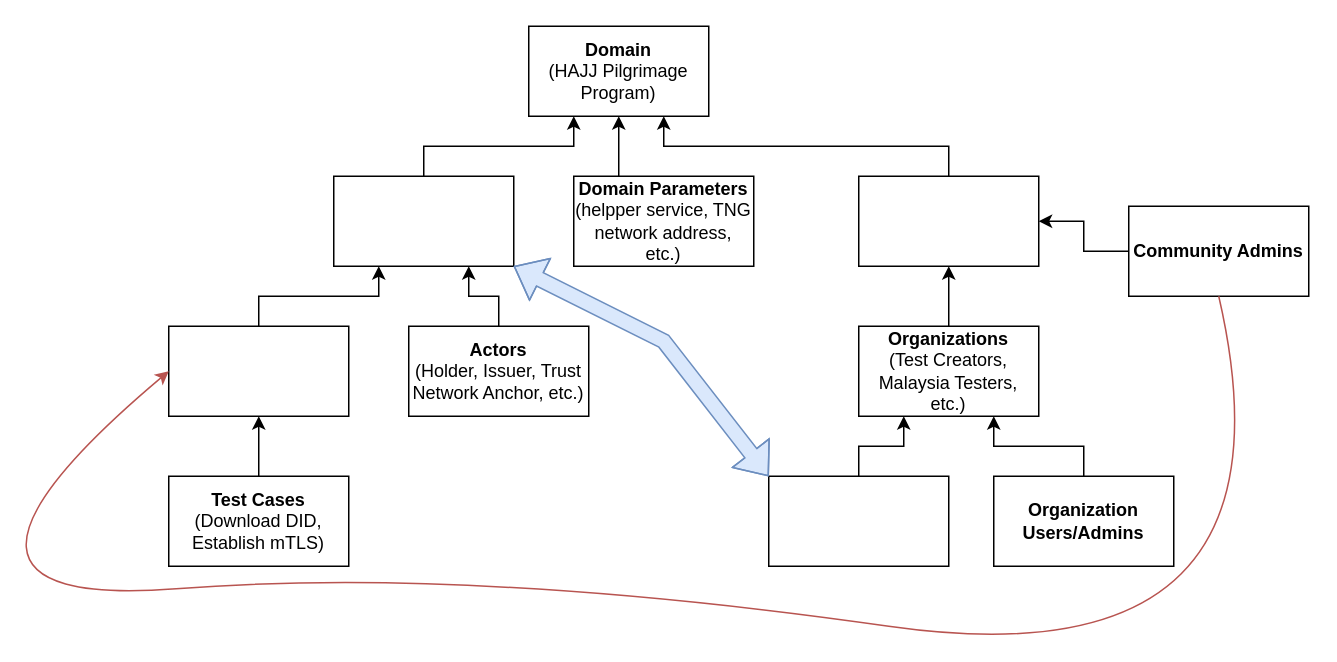
Some shapes in this 1337 by 662 pixel diagram are drawn without their labels. The box of each missing label's shape, as (x1, y1, x2, y2) in pixels:
Communities (Trust Network Testing Community): (857, 175, 1039, 266)
Specification (GDHCN Conformity): (332, 175, 514, 266)
Systems (TNG Dev, Mock Services, IHE Malaysia): (767, 475, 949, 566)
Test Suites: (167, 325, 349, 416)
